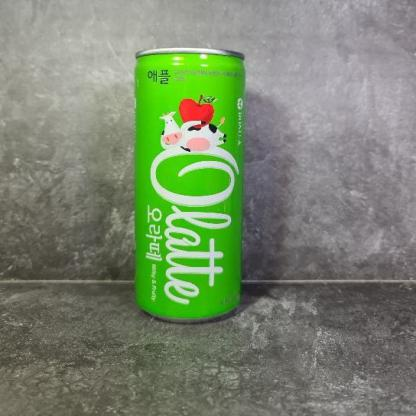bottle: (128, 47, 251, 330)
